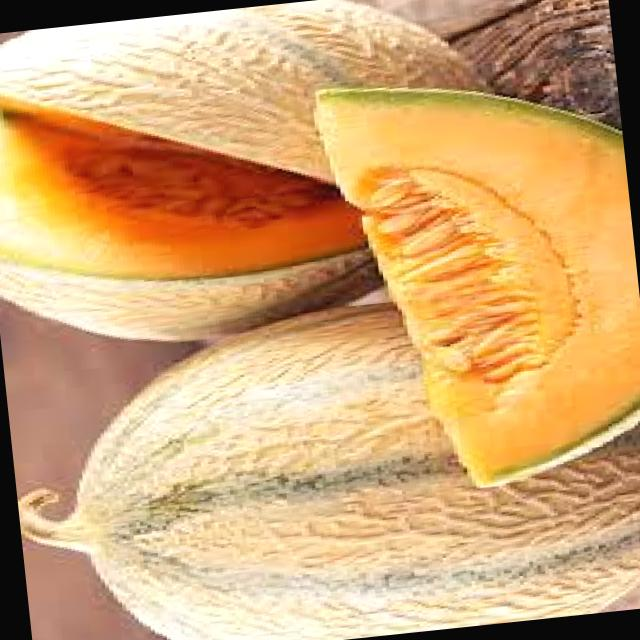cantaloupe: (0, 274, 640, 640), (0, 0, 509, 359), (311, 57, 640, 500)
